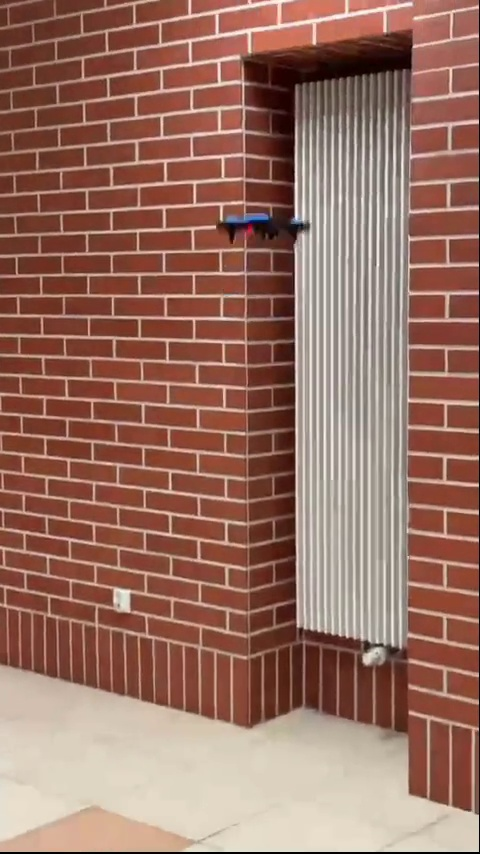drone: (213, 205, 308, 241)
